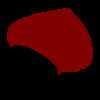mutande: (6, 8, 93, 75)
